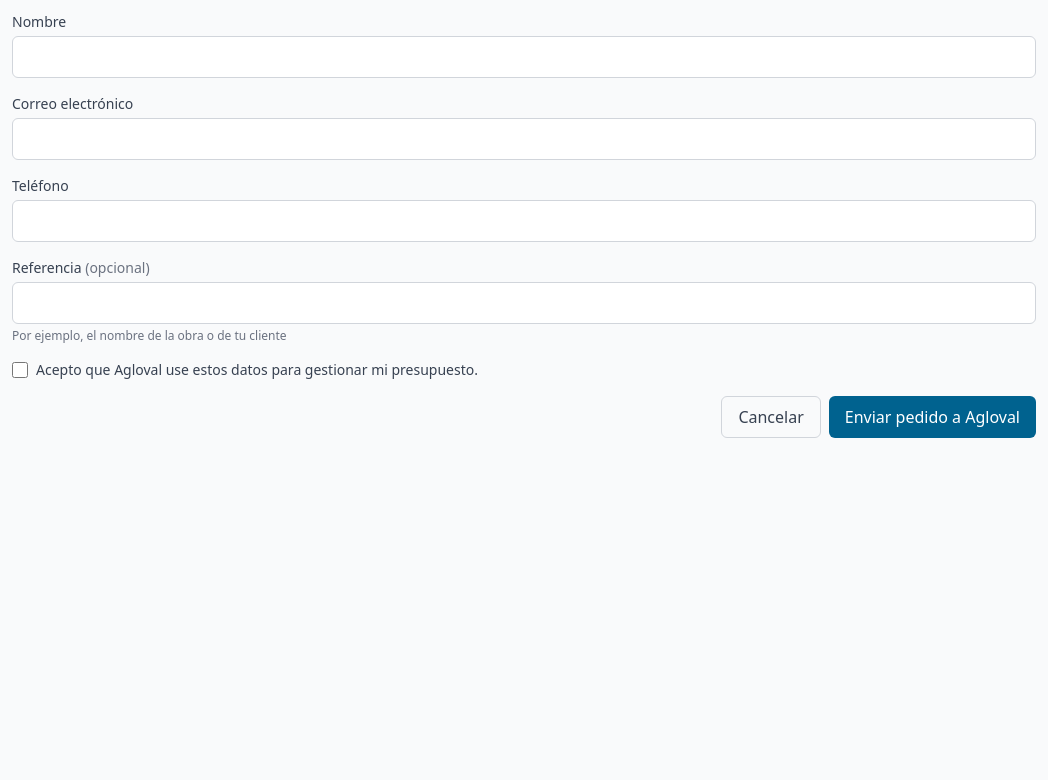
CustomerDetailsForm › shows every validation message next to its field and does not submit
Click the button "Enviar pedido a Agloval".
click(932, 417)  # box [829,396,1036,438]
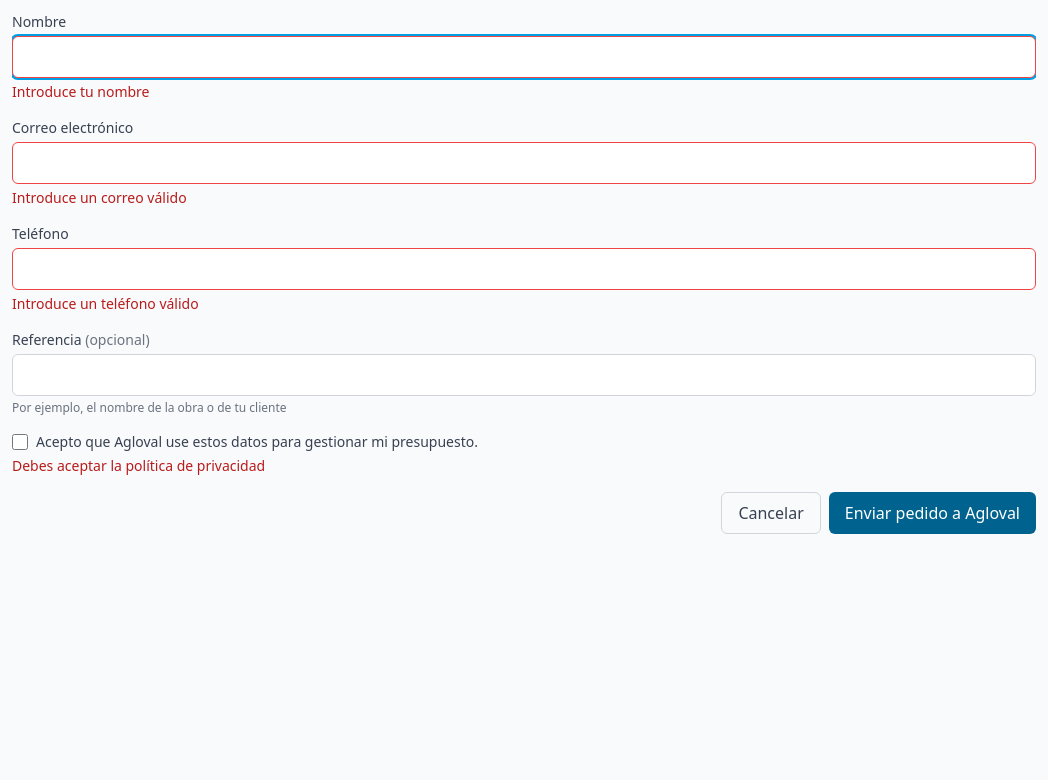
Expected: the text "Introduce tu nombre" is shown, [12,82,150,101]
